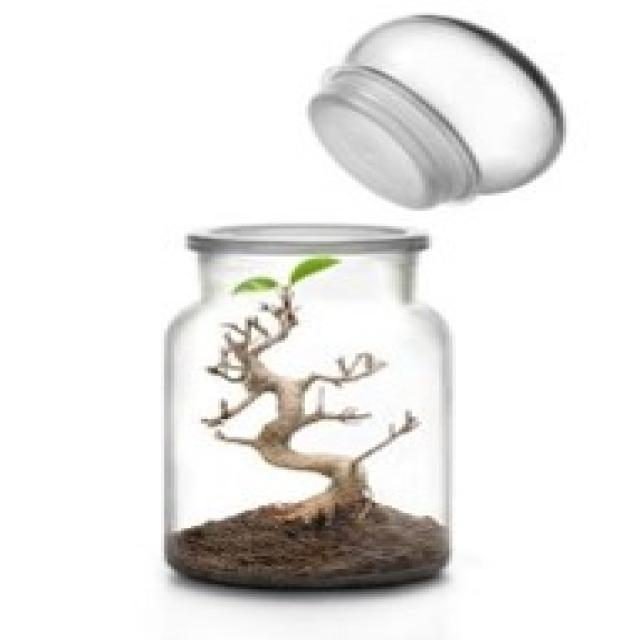electronic: (161, 214, 458, 604), (308, 10, 571, 209)
